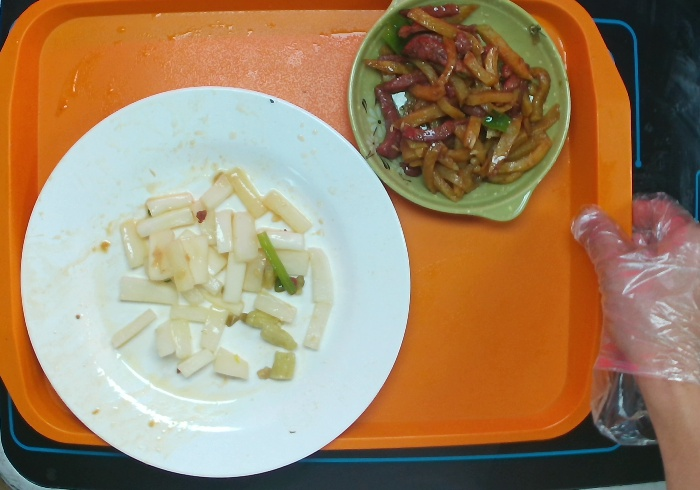NLDX-Da_Yuan_Pan: (15, 84, 418, 478)
NLDX-Lv_Hua_Shuang_Er_Die: (348, 1, 574, 229)
